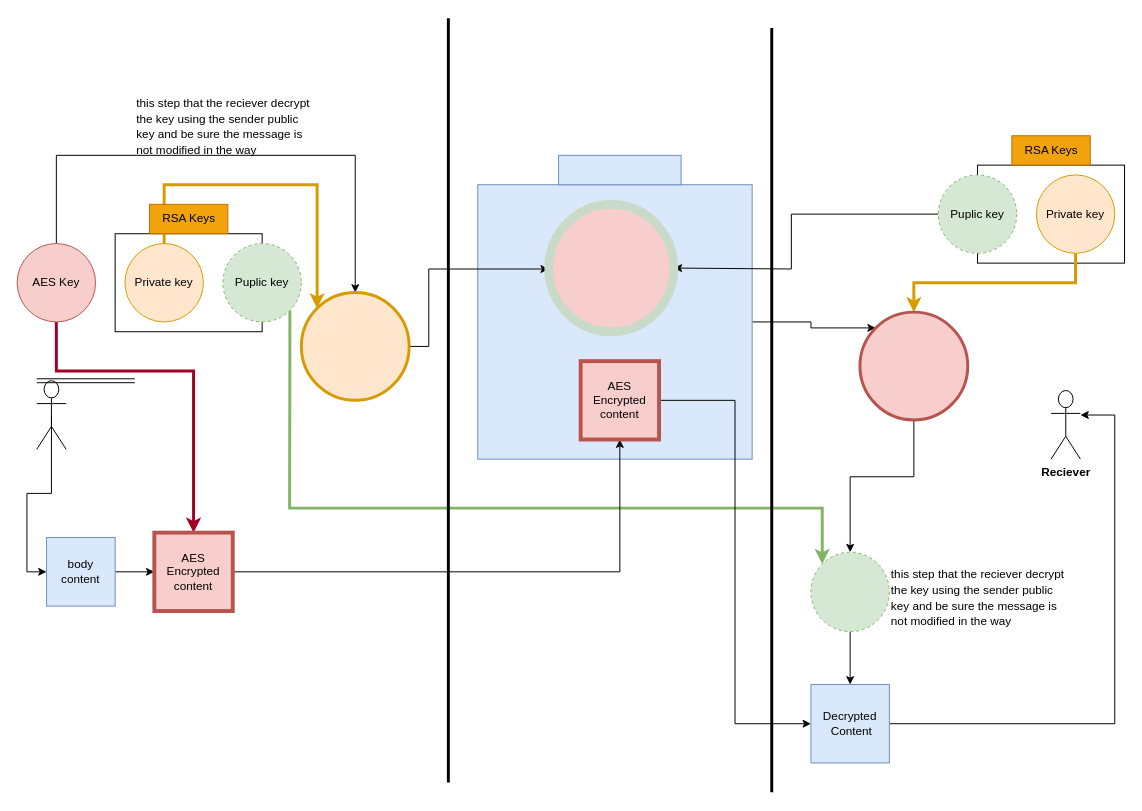
The diagram is 1142 pixels wide and 811 high, and some of its shapes have lost their labels. Here are the shapes that lost their labels. From the top down, the box of each, then its label:
(558, 154, 681, 185): Message to Send
(544, 199, 678, 336): AES encrypted by Reciever RSA
(299, 291, 410, 401): AES Key Encrypted by RSA Private key
(858, 310, 969, 421): Decrypted AES Key by reciever RSA
(36, 380, 66, 449): sender
(810, 551, 889, 632): Decrypted AES by Sender Public key
